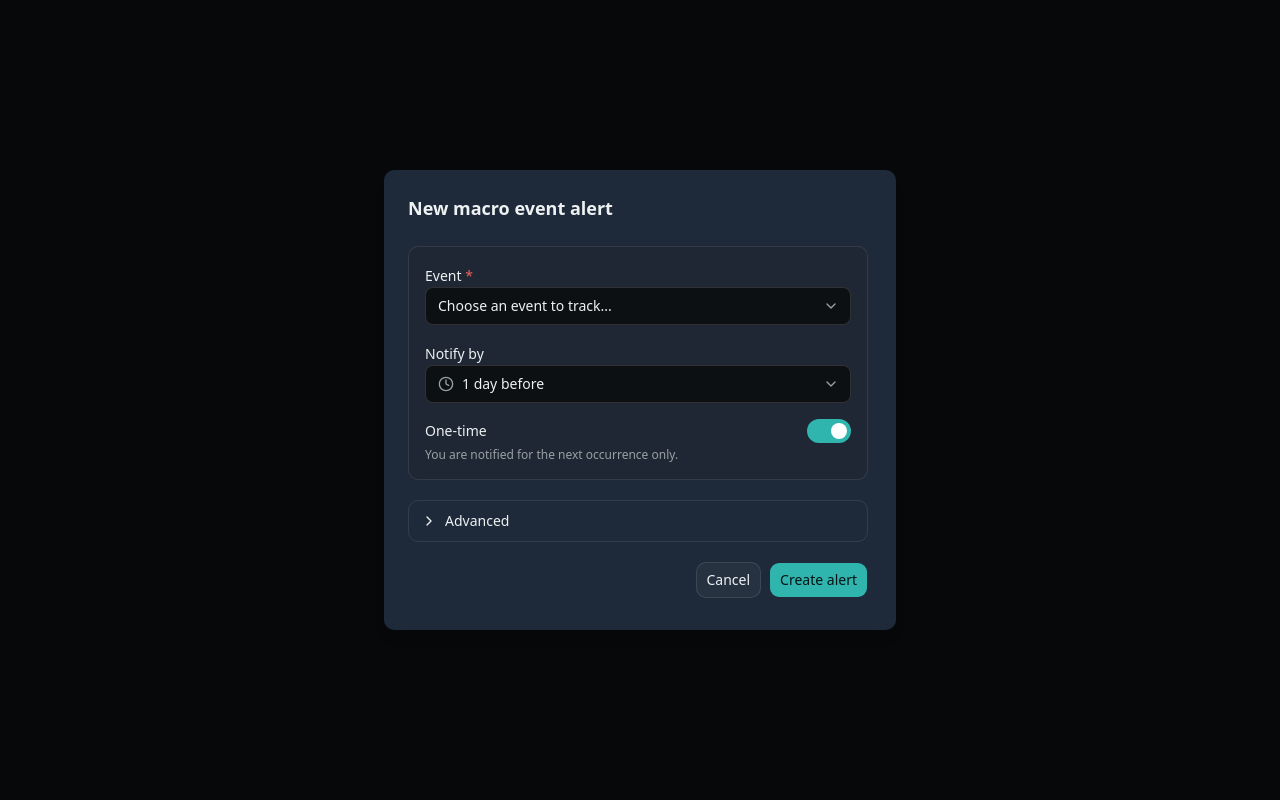
Test: MacroAlertForm › requires an event before creating the alert
The image size is (1280, 800).
Click the button "Create alert": [819, 580] box [769, 562, 868, 598]
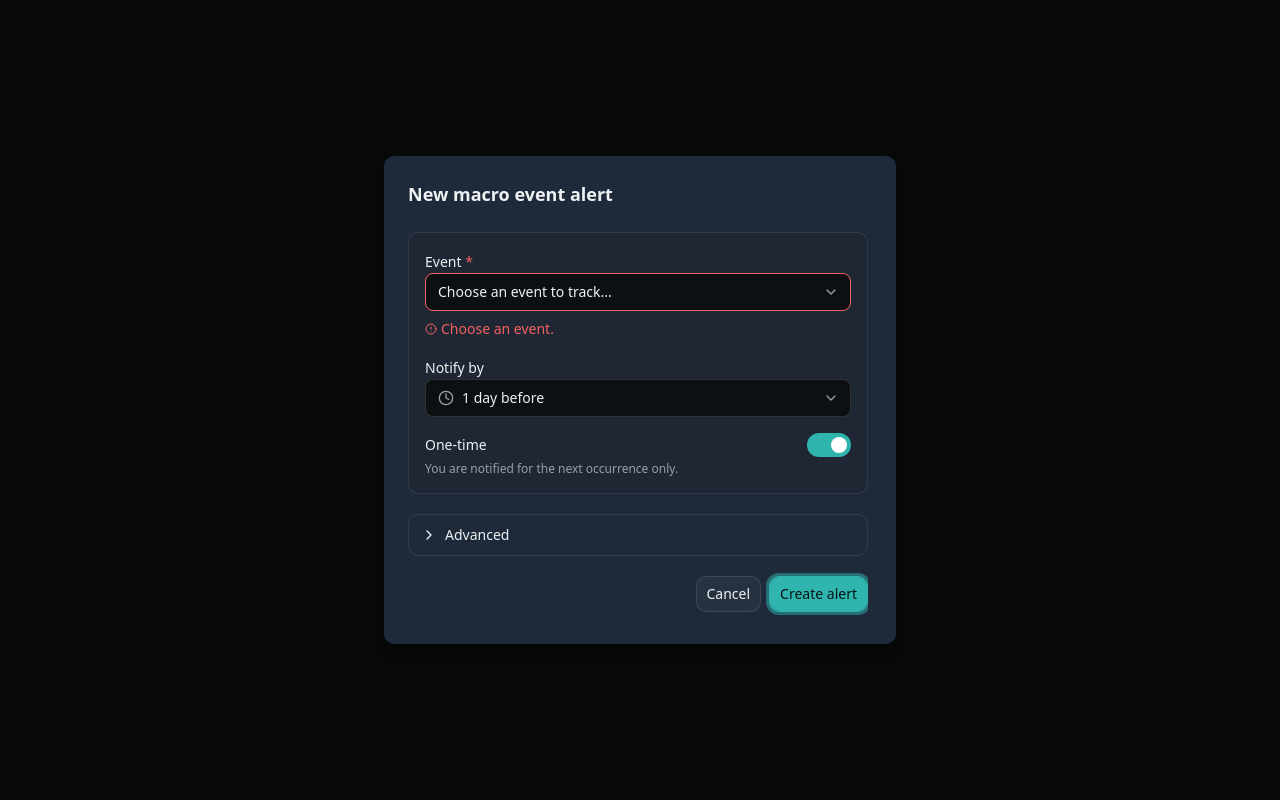
Result: the text "Choose an event." is shown at [425, 319, 554, 338]
